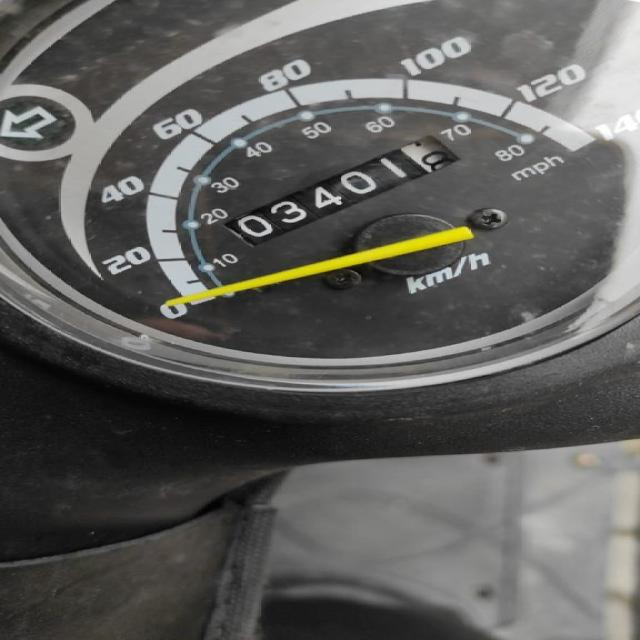odometer: (221, 132, 462, 248)
